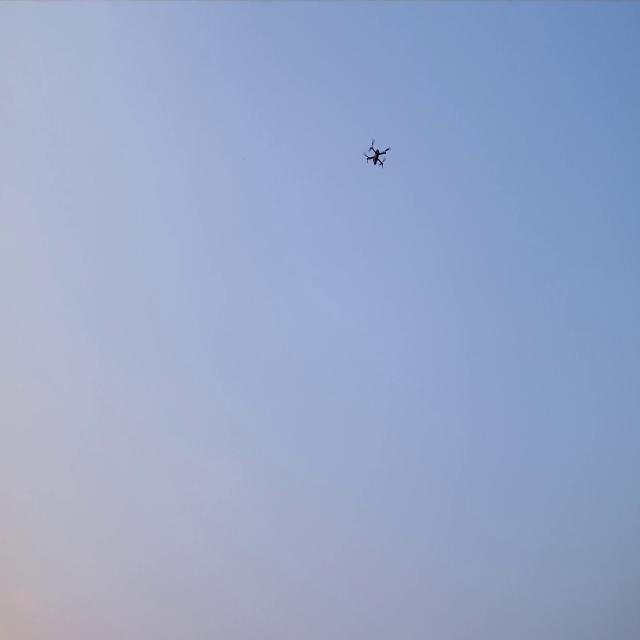UAV: (362, 137, 393, 172)
